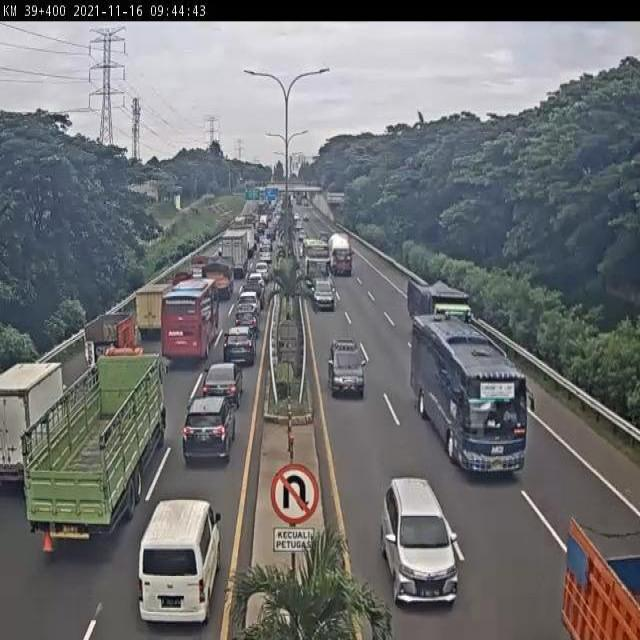big bus: (413, 316, 534, 477), (159, 282, 216, 366)
car: (382, 480, 459, 608), (180, 396, 235, 464), (328, 338, 365, 398), (203, 364, 244, 405), (221, 329, 253, 368), (312, 276, 337, 312), (232, 308, 259, 335), (236, 288, 261, 316)
small bus: (139, 498, 222, 622)
small truck: (132, 285, 170, 344)
truck-l-: (25, 352, 166, 543), (408, 275, 470, 344)
truck-m-: (0, 363, 76, 489), (81, 315, 136, 365), (198, 258, 234, 298)
